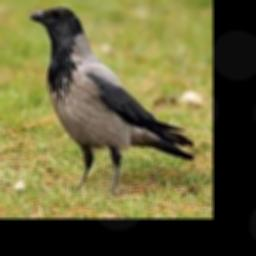Crow: (31, 6, 196, 192)
